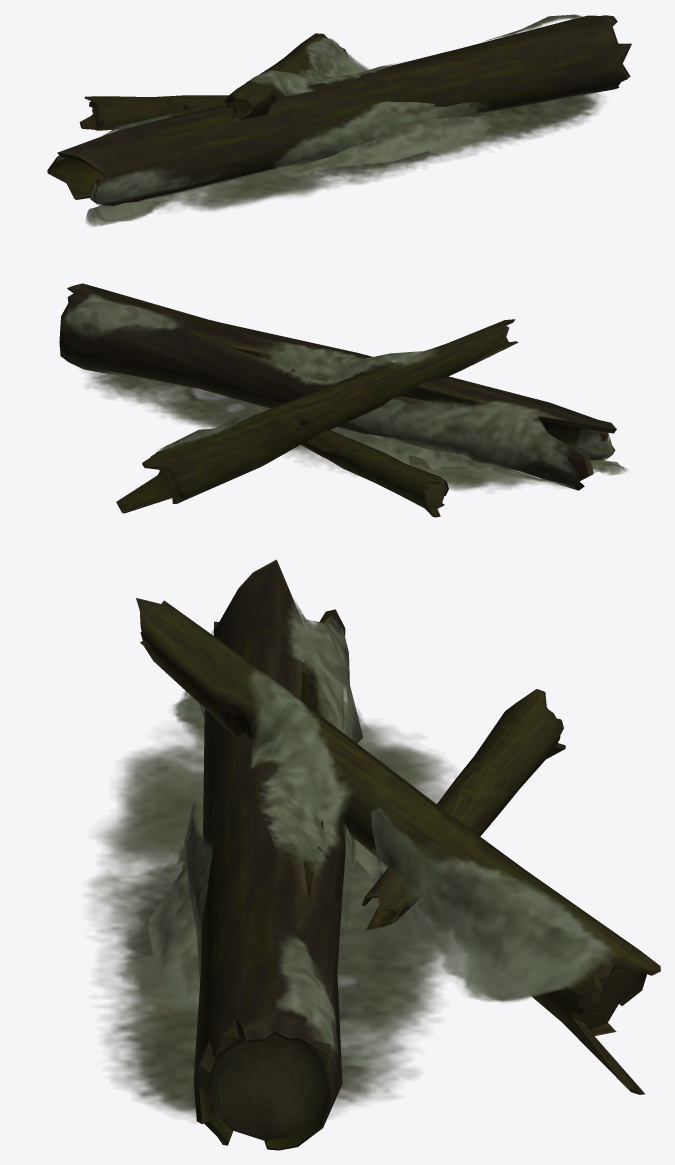
3 renders of one model, top to bottom at view 1: azimuth 30°, elevation 25°; view 2: azimuth 150°, elevation 25°; view 3: azimuth 270°, elevation 25°, orthographic. The views are drawn at different scales.
Parts seen in each view (by area): view 1: plants_lying_snag_d-0-snag, plants_lying_snag_d-2-underlay, plants_lying_snag_d-1-overlay; view 2: plants_lying_snag_d-0-snag, plants_lying_snag_d-1-overlay, plants_lying_snag_d-2-underlay; view 3: plants_lying_snag_d-0-snag, plants_lying_snag_d-2-underlay, plants_lying_snag_d-1-overlay.
Part boxes in pixels (x1=…): plants_lying_snag_d-0-snag: x1=47, y1=15, x2=631, y2=205; plants_lying_snag_d-2-underlay: x1=86, y1=92, x2=603, y2=226; plants_lying_snag_d-1-overlay: x1=101, y1=14, x2=583, y2=135; plants_lying_snag_d-0-snag: x1=59, y1=283, x2=616, y2=517; plants_lying_snag_d-1-overlay: x1=64, y1=293, x2=580, y2=480; plants_lying_snag_d-2-underlay: x1=81, y1=366, x2=627, y2=490; plants_lying_snag_d-0-snag: x1=136, y1=559, x2=660, y2=1150; plants_lying_snag_d-2-underlay: x1=88, y1=631, x2=457, y2=1118; plants_lying_snag_d-1-overlay: x1=249, y1=598, x2=615, y2=1055.
Size of the model in its own units: 5.97 by 1.57 by 3.34.
Materials: 3 (3 with a texture image).
